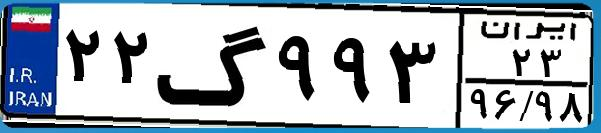2: (57, 26, 110, 100), (110, 28, 156, 98), (508, 27, 537, 80)
3: (385, 28, 445, 110), (537, 27, 568, 80)
6: (495, 70, 520, 125)
8: (560, 70, 590, 125)
9: (270, 28, 330, 110), (330, 28, 385, 110), (470, 70, 495, 125), (535, 70, 560, 125)
گ: (156, 12, 270, 120)
